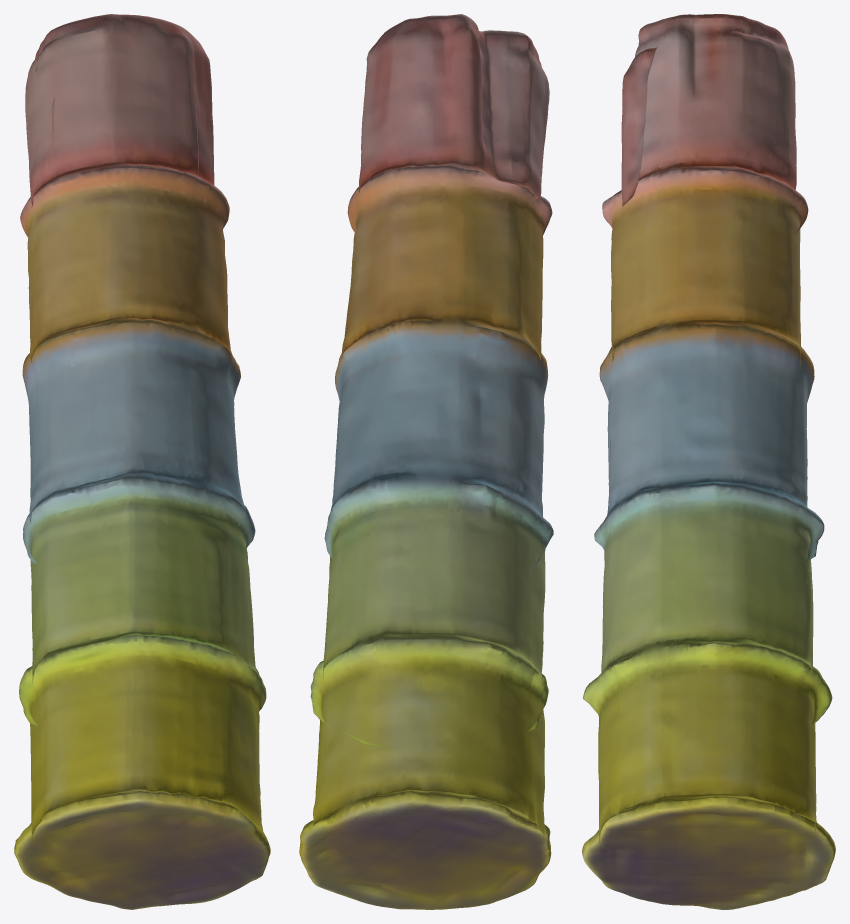
Rendered from stucking_cups_ours.glb.
3 views of the same model, side by side, from view 1: azimuth 30°, elevation 25°; view 2: azimuth 150°, elevation 25°; view 3: azimuth 270°, elevation 25° (orthographic).
Bounding box in the file's own units: 0.3024 × 1.05 × 0.2976.
